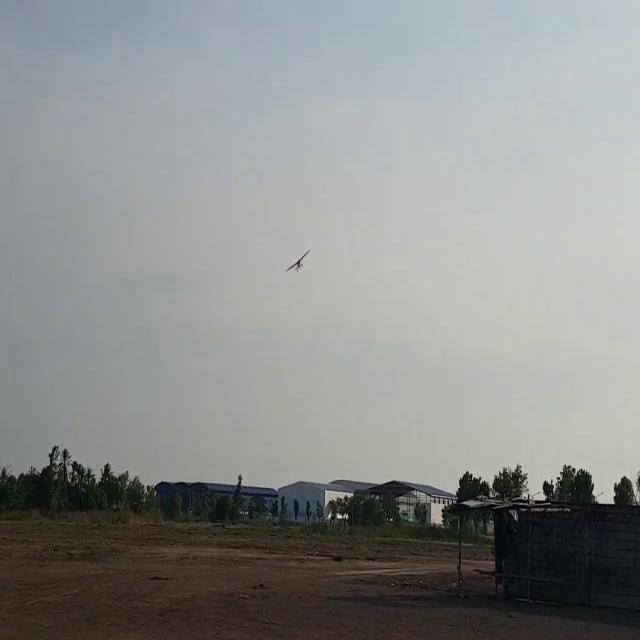iha: (284, 247, 312, 277)
